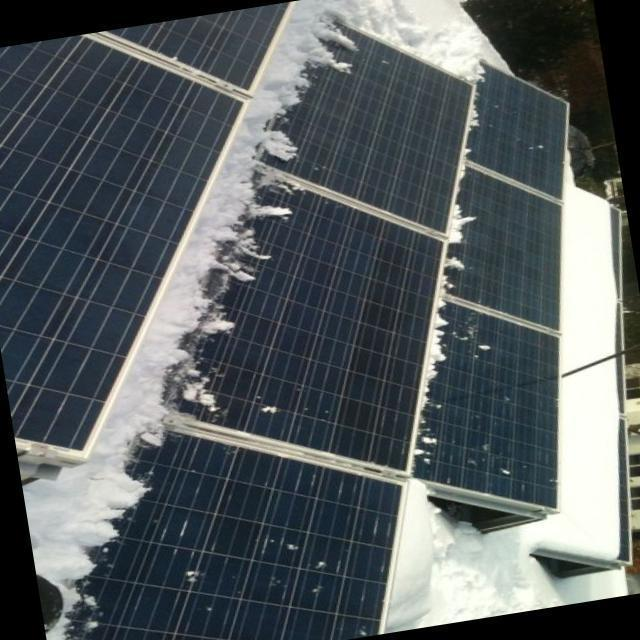Anomaly Solar Panel: (112, 148, 447, 473), (38, 405, 406, 640), (225, 2, 475, 236), (408, 294, 560, 510), (438, 161, 563, 334), (461, 61, 568, 202)
Normal Solar Panel: (0, 1, 292, 452)
Snow: (41, 1, 362, 612), (408, 65, 489, 482)
